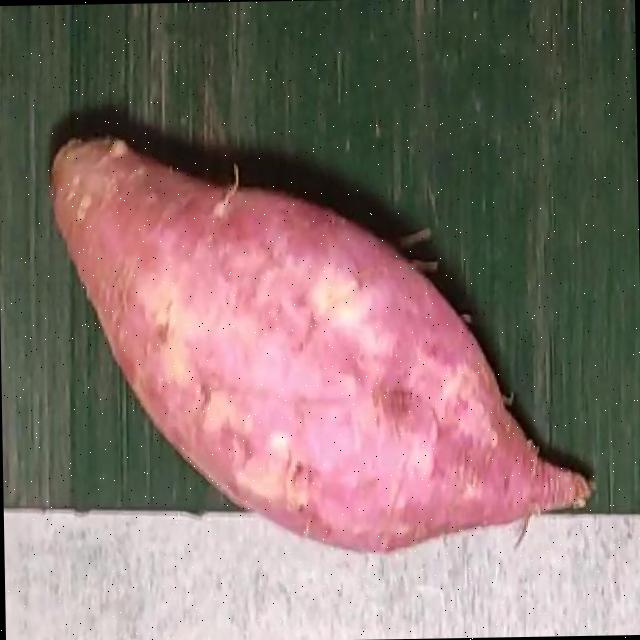Sweet Potato: (47, 133, 595, 555)
